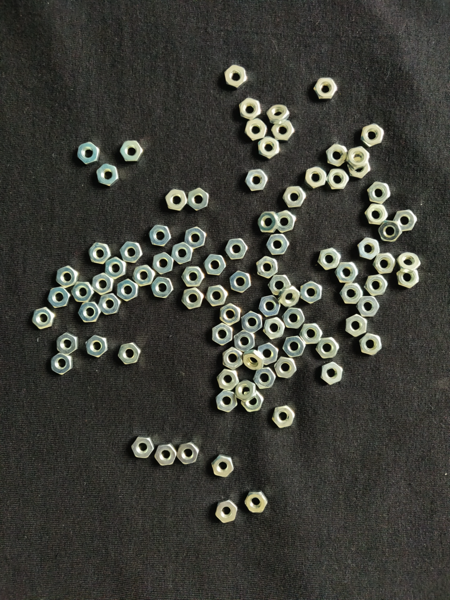nut: (224, 65, 249, 89), (361, 123, 385, 148), (346, 146, 370, 170), (378, 220, 403, 243), (314, 77, 338, 100), (77, 142, 101, 165), (271, 120, 295, 143), (318, 248, 342, 271), (272, 406, 296, 429), (215, 500, 238, 524), (97, 164, 120, 187), (245, 169, 268, 192), (171, 242, 194, 265), (358, 237, 381, 260), (181, 287, 204, 310), (99, 293, 122, 316), (56, 266, 79, 289), (31, 307, 54, 330), (85, 335, 108, 358), (373, 252, 396, 275), (258, 295, 281, 318), (263, 317, 286, 340), (345, 314, 368, 337), (132, 436, 155, 459), (120, 140, 144, 162), (326, 168, 350, 190), (365, 203, 389, 225), (282, 186, 306, 208), (152, 252, 174, 276), (88, 243, 112, 265), (118, 343, 142, 365), (301, 281, 323, 305), (316, 337, 340, 359), (274, 357, 298, 379), (216, 369, 240, 391), (393, 210, 418, 231), (267, 275, 292, 296), (245, 118, 267, 141), (258, 136, 280, 159), (326, 144, 348, 167), (305, 166, 327, 189), (368, 182, 391, 204), (267, 234, 290, 256), (149, 225, 172, 247), (185, 227, 207, 250), (120, 241, 143, 263), (105, 257, 127, 280), (225, 238, 248, 260), (151, 277, 174, 299), (117, 279, 139, 302), (48, 287, 71, 309), (56, 333, 78, 356), (51, 353, 74, 375), (205, 285, 228, 307), (365, 275, 388, 297), (283, 308, 306, 330), (360, 333, 382, 356), (300, 323, 323, 345), (283, 336, 306, 358), (321, 362, 343, 385), (258, 343, 280, 366), (235, 379, 257, 402), (154, 444, 177, 466), (212, 455, 234, 478), (245, 491, 268, 513), (71, 282, 95, 303), (397, 253, 421, 274), (340, 283, 364, 304), (241, 391, 265, 412), (239, 98, 261, 120), (166, 189, 188, 211), (133, 265, 155, 287), (92, 273, 114, 295), (204, 254, 226, 276), (177, 443, 199, 465), (188, 188, 209, 211), (78, 302, 101, 323), (257, 256, 278, 279), (230, 271, 251, 294), (278, 286, 301, 307), (212, 323, 233, 346), (223, 347, 244, 370), (253, 368, 276, 389), (216, 390, 237, 413), (335, 263, 359, 283), (349, 157, 371, 178), (258, 212, 280, 233), (220, 304, 241, 326), (234, 330, 255, 352), (243, 350, 265, 371), (276, 210, 296, 233), (182, 267, 205, 287), (357, 297, 380, 317), (242, 311, 262, 334), (267, 105, 290, 124), (398, 270, 420, 289)
